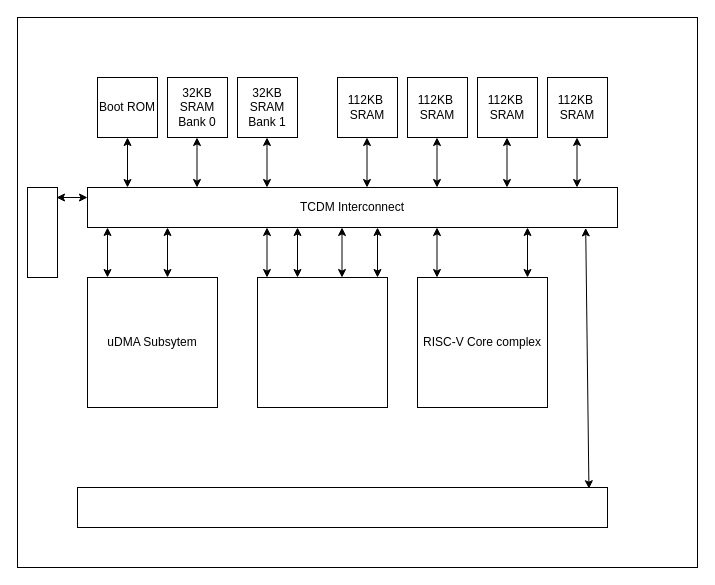
This 715x585 diagram has some shape labels left out. The centre of each missing label's shape, as x and y in pixels:
APB Peripheral Interconnect: (342,507)
D e b u g: (42,232)
eFPGA: (322,342)
